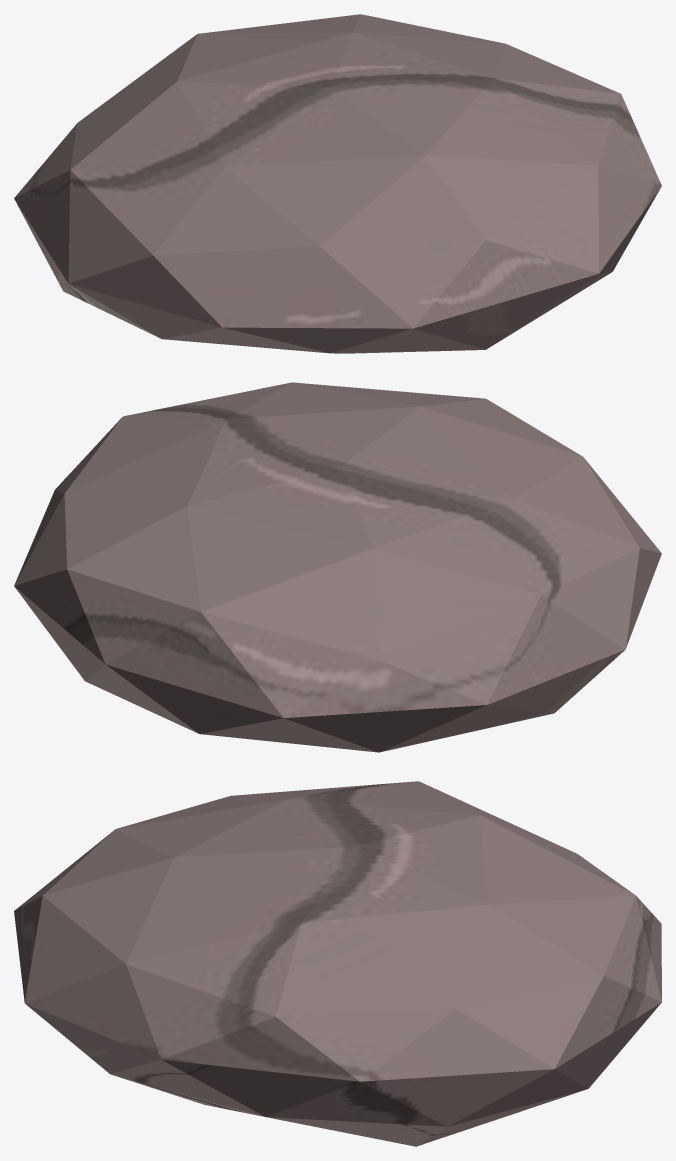
The model's file is rock1.obj.
The picture shows the model from 3 angles, top to bottom: view 1: azimuth 30°, elevation 25°; view 2: azimuth 150°, elevation 25°; view 3: azimuth 270°, elevation 25°; orthographic projection. The views are drawn at different scales.
Visible parts, largest first — view 1: Icosphere; view 2: Icosphere; view 3: Icosphere.
Boxes of the visible parts, x1,y1,x2,y2 form: Icosphere: (14,14,661,353); Icosphere: (14,382,661,752); Icosphere: (14,781,661,1146).
Bounding box in the file's own units: 1.97 × 0.7431 × 1.93.
Materials: 1 (1 with a texture image).
